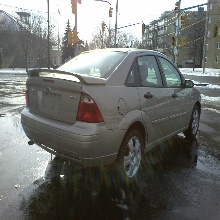no damage: (20, 47, 202, 181)
